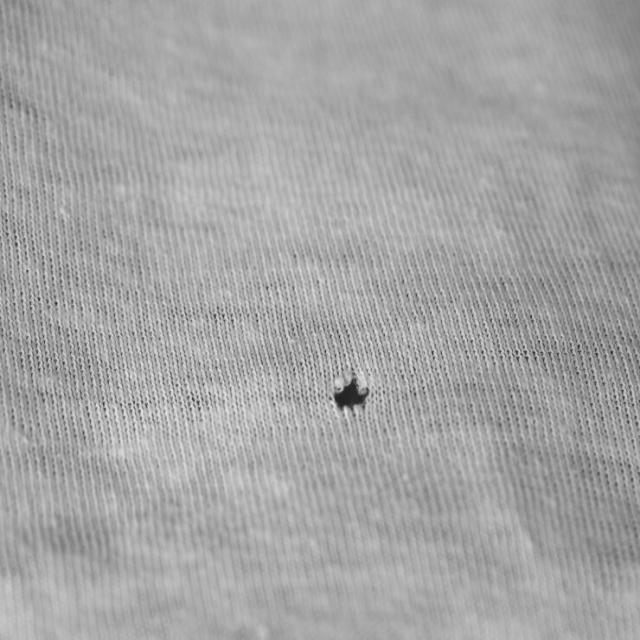Hole: (335, 377, 370, 409)
